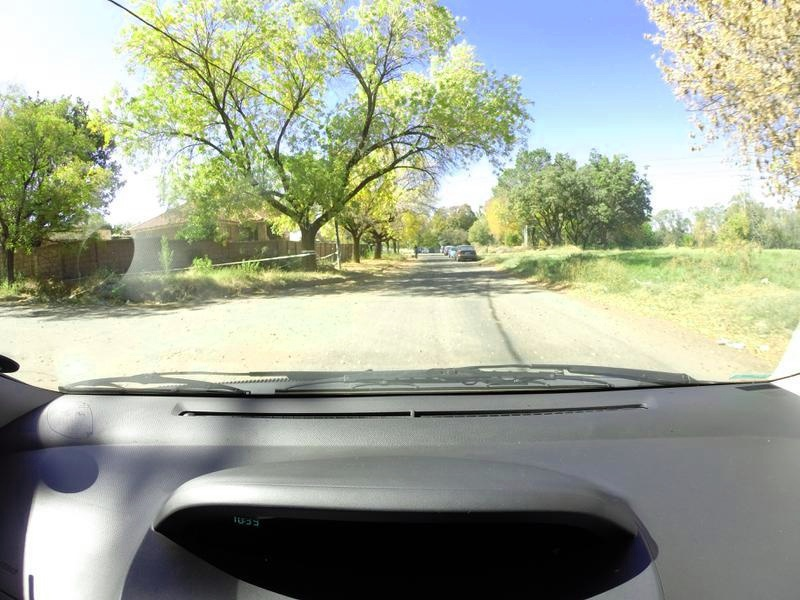pothole: (166, 348, 238, 363)
